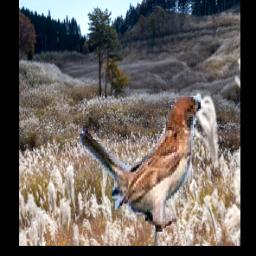Sparrow: (78, 94, 201, 233)
